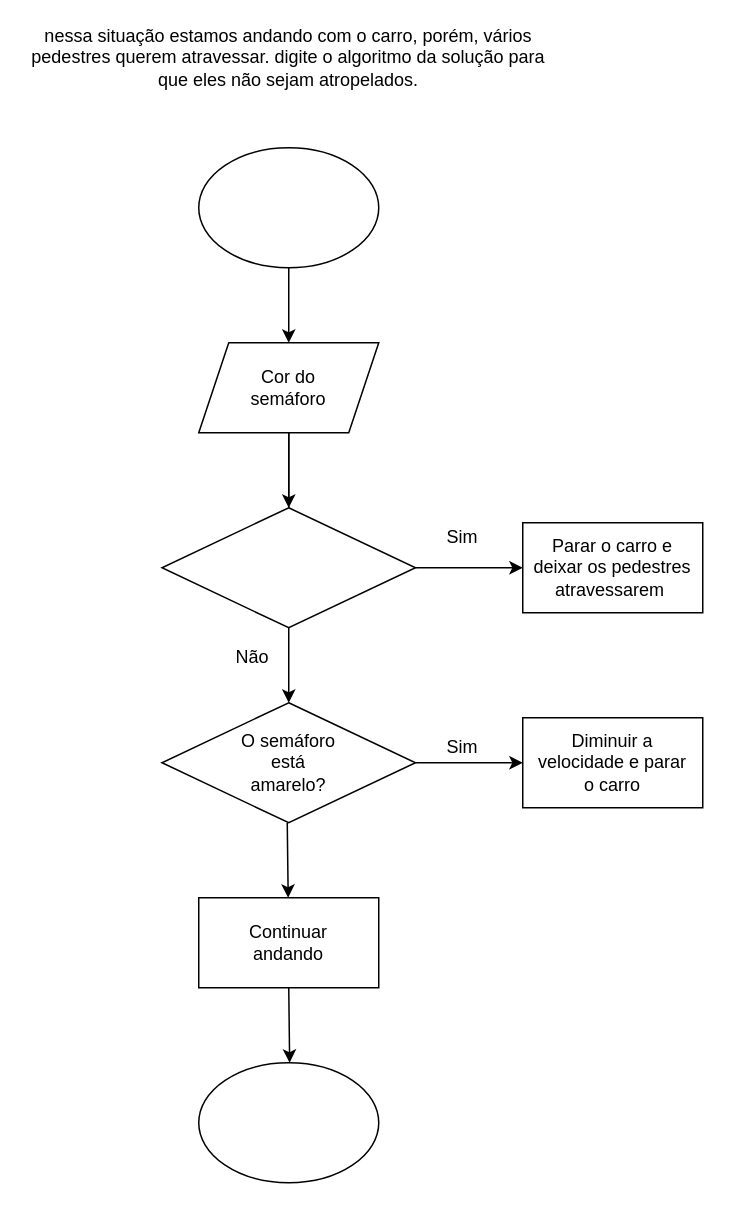
This 729x1209 diagram has some shape labels left out. Here are the shapes that lost their labels. From the top down, the centre of each, then its label:
At point (288, 207): "Início".
At point (288, 567): "O semáforo está vermelho?".
At point (288, 1122): "Fim".
